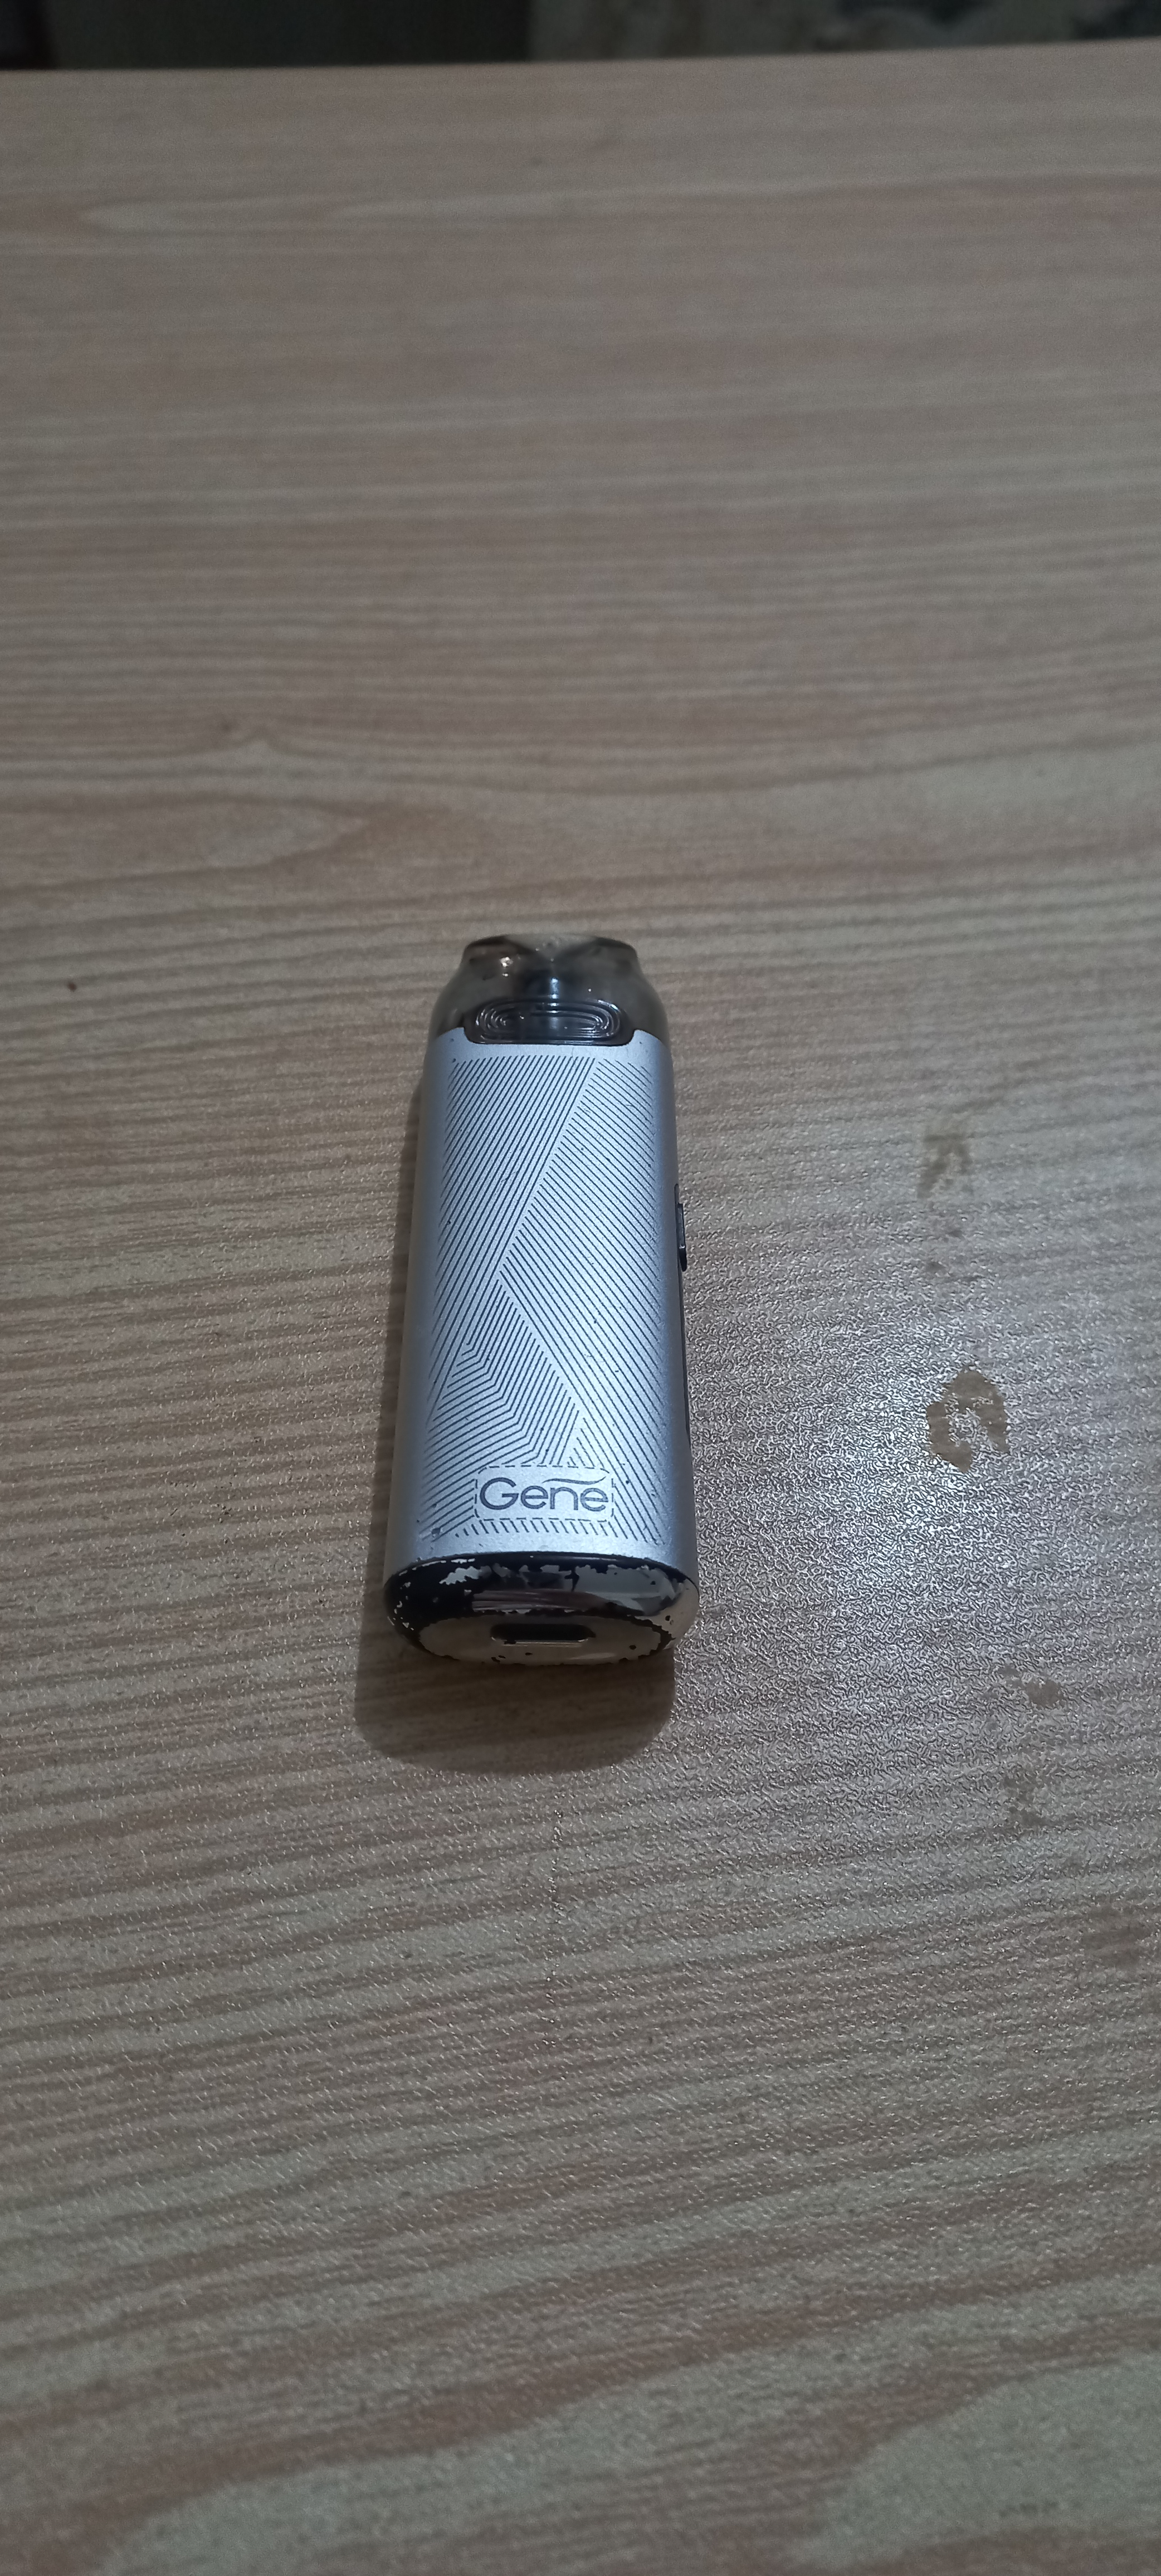lighter: (349, 880, 717, 1676)
